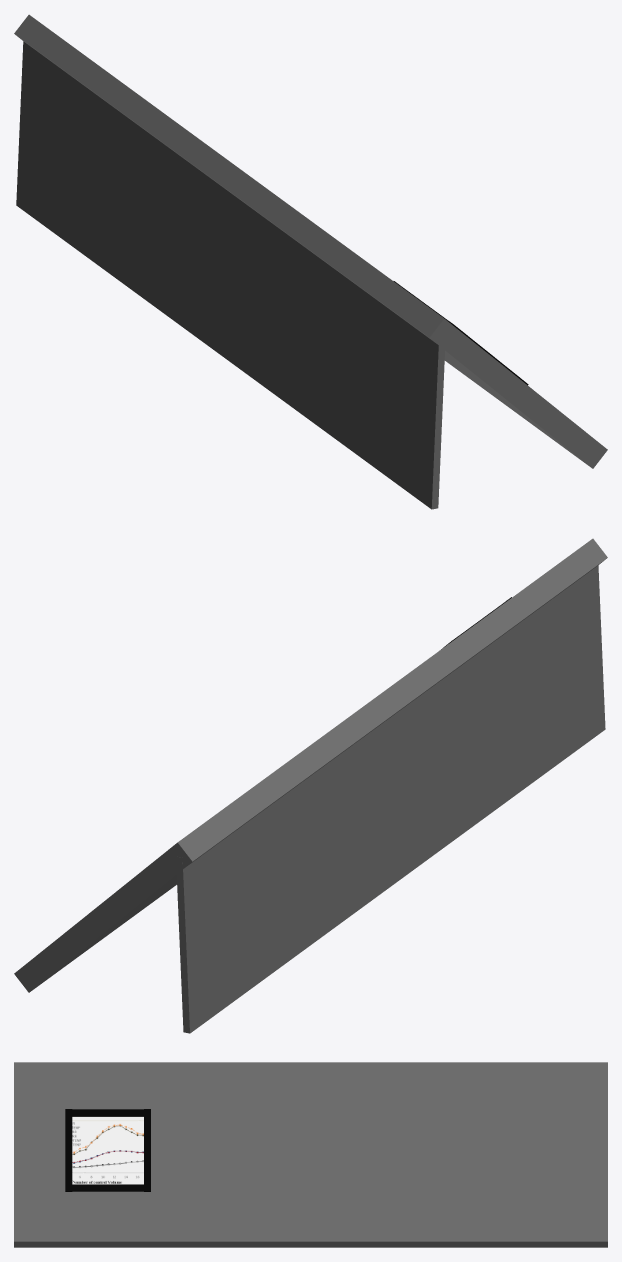
File: controlPannel.obj
3 renders of one model, top to bottom at view 1: azimuth 30°, elevation 25°; view 2: azimuth 150°, elevation 25°; view 3: azimuth 270°, elevation 25°, orthographic. The views are drawn at different scales.
Visible parts, largest first — view 1: Cube; view 2: Cube; view 3: Cube, Plane, Cube.002, Cube.001, Cube.004_Cube.005, Cube.003_Cube.004.
Part boxes in pixels (x1=…): Cube: x1=14, y1=14, x2=607, y2=509; Cube: x1=14, y1=538, x2=607, y2=1033; Cube: x1=14, y1=1062, x2=607, y2=1247; Plane: x1=72, y1=1117, x2=143, y2=1184; Cube.002: x1=65, y1=1109, x2=72, y2=1191; Cube.001: x1=144, y1=1109, x2=150, y2=1191; Cube.004_Cube.005: x1=72, y1=1184, x2=143, y2=1191; Cube.003_Cube.004: x1=72, y1=1109, x2=143, y2=1116.
Size of the model in its own units: 4.11 by 4.14 by 16.55.
3 materials, 1 textured.
